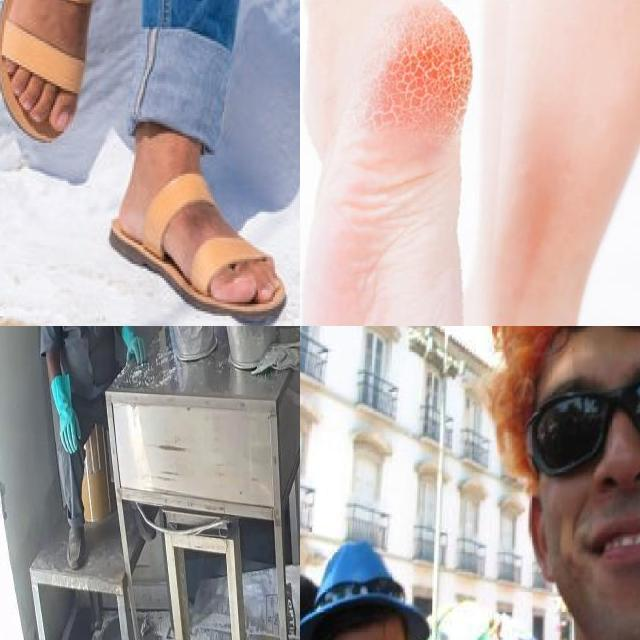Barefoots: (300, 0, 475, 326)
Sandals: (110, 118, 288, 312), (0, 0, 104, 145)
face_nomask: (527, 370, 640, 606)
glasses: (522, 362, 640, 488)
hand_glove: (52, 405, 85, 457), (119, 333, 152, 369)
head_nohelmet: (303, 565, 417, 640)
person: (34, 326, 148, 571)
shoes: (58, 524, 93, 574)
